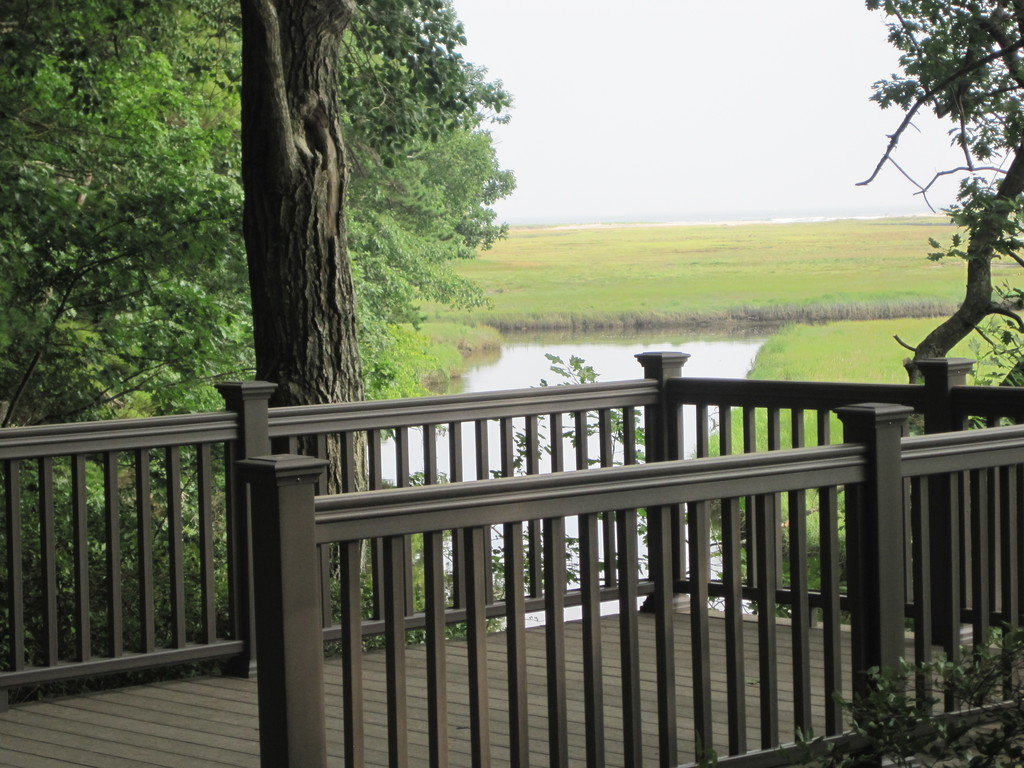Tree: (0, 0, 652, 637), (854, 0, 1024, 436)
